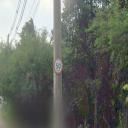speed_limit_50: (54, 58, 63, 75)
